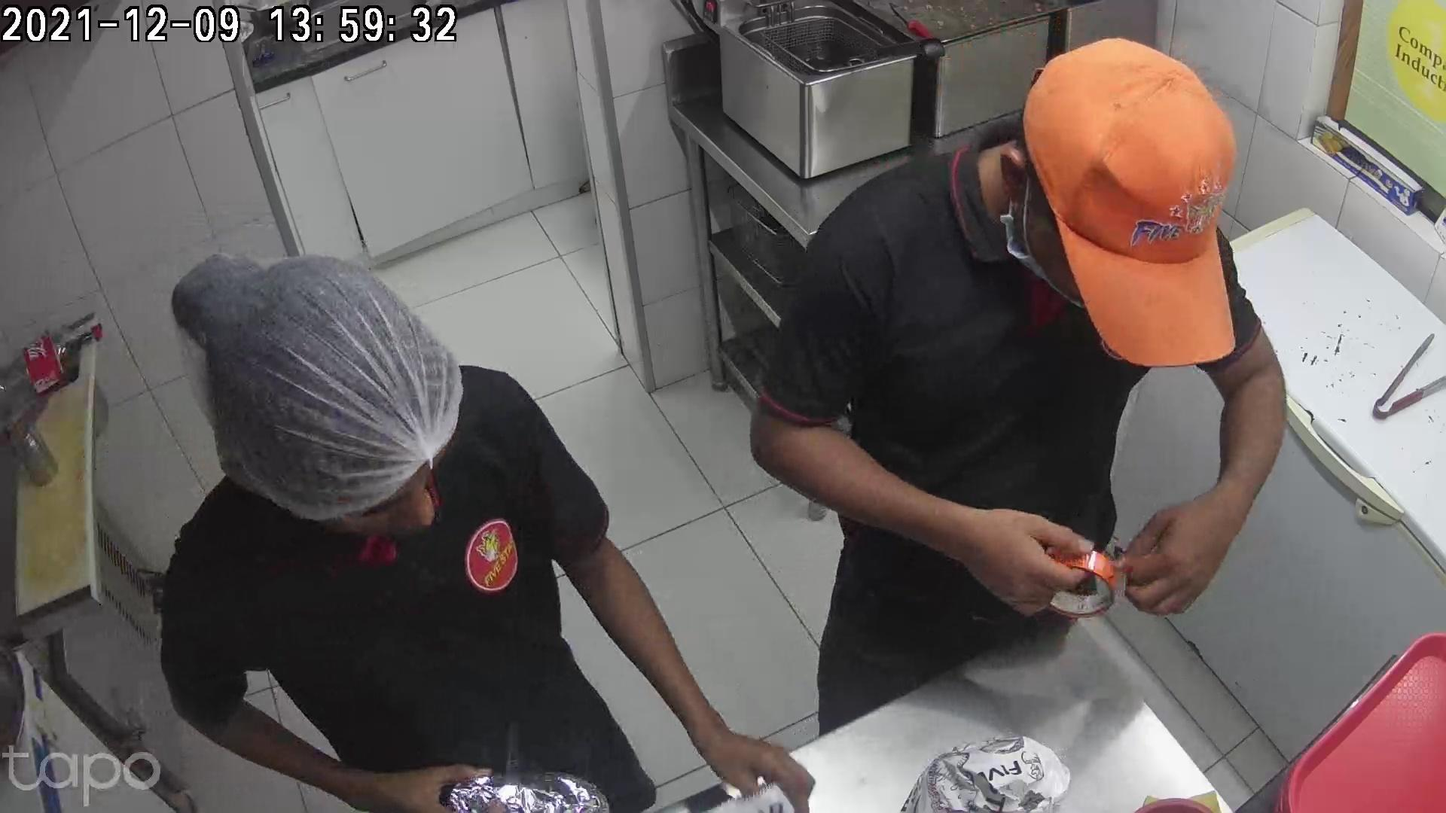no_gloves: (915, 486, 1079, 604)
